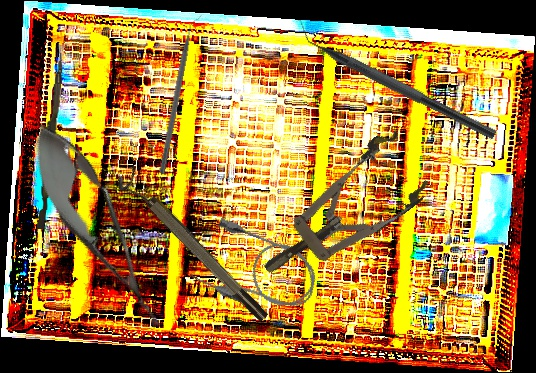Cannula: (187, 214, 326, 326)
Chopper: (286, 16, 506, 142), (158, 12, 205, 177)
Fixation Ring: (114, 164, 271, 331)
Micro Scissor: (13, 111, 183, 342)
Pusher: (36, 52, 65, 230)
Speculum: (242, 124, 439, 301)
